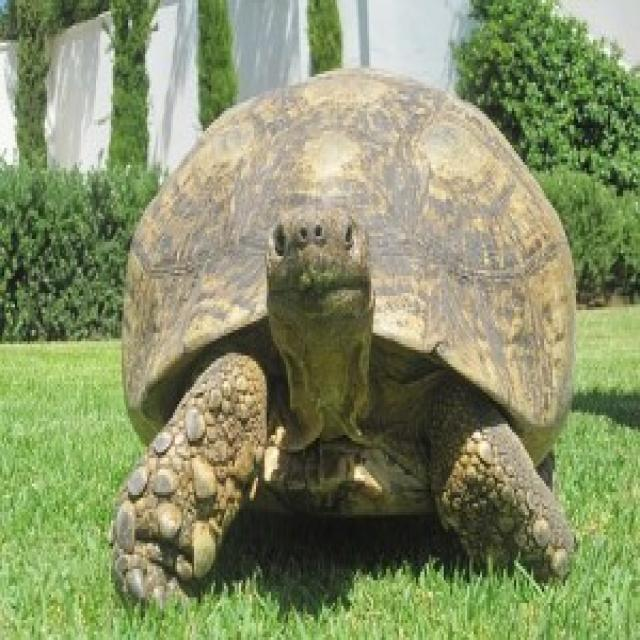Sea turtle: (103, 51, 590, 630)
